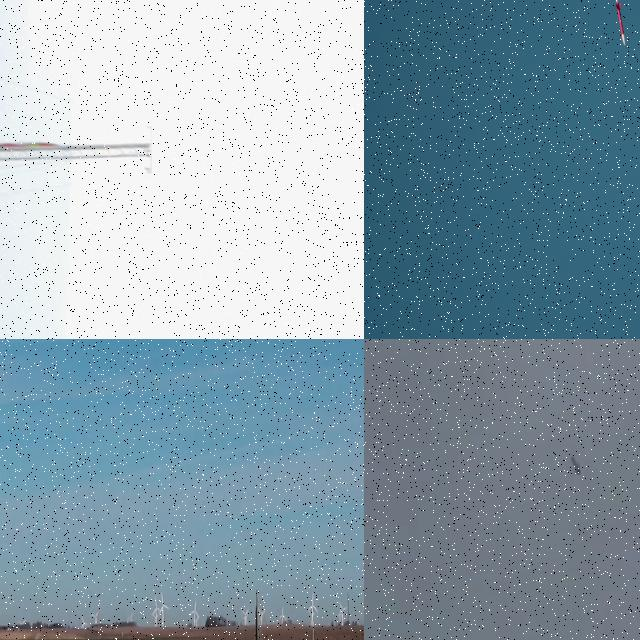Rocket: (616, 2, 626, 46), (0, 143, 60, 150), (571, 455, 581, 476), (255, 605, 260, 640)
